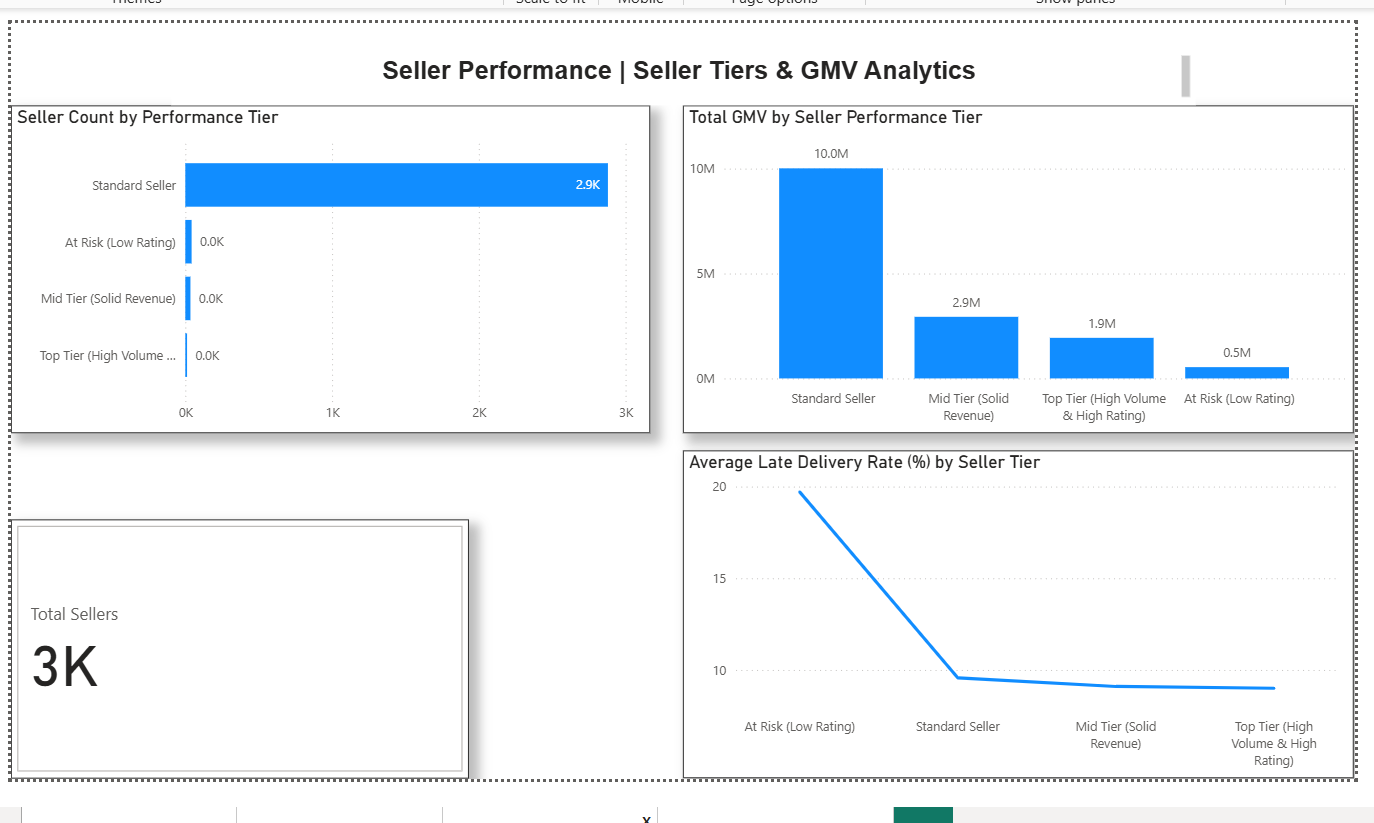

This screenshot's page, from the dashboard's own definition file:
{"tool":"powerbi","page":{"name":"Seller Performance","canvas":[1280,720],"ordinal":2},"visuals":[{"type":"cardVisual","fields":{"Data":["Sum(19_vw_seller_performance_scorecard.total_sellers)"]},"box":[0,472.4,436.1,246.8],"z":0},{"type":"clusteredBarChart","title":"Seller Count by Performance Tier","fields":{"Category":["19_vw_seller_performance_scorecard.seller_performance_tier"],"Y":["Sum(19_vw_seller_performance_scorecard.total_sellers)"]},"box":[0,78.7,608.7,311.9],"z":1000},{"type":"clusteredColumnChart","title":"Total GMV by Seller Performance Tier","fields":{"Category":["19_vw_seller_performance_scorecard.seller_performance_tier"],"Y":["Sum(19_vw_seller_performance_scorecard.total_gmv)"]},"box":[640.5,78.7,639,311.9],"z":2000},{"type":"lineChart","title":"Average Late Delivery Rate (%) by Seller Tier","fields":{"Y":["Avg(19_vw_seller_performance_scorecard.avg_late_rate_pct)"],"Category":["19_vw_seller_performance_scorecard.seller_performance_tier"]},"box":[640.5,407.3,639,311.9],"z":3000},{"type":"textbox","box":[152.9,25.7,975.1,53],"z":3002}]}

Visuals, with their boxes in screenshot pixels (x1, y1, x2, y2):
cardVisual - Sum(19_vw_seller_performance_scorecard.total_sellers): [left=0, top=518, right=462, bottom=779]
"Seller Count by Performance Tier" clusteredBarChart: [left=0, top=101, right=644, bottom=431]
"Total GMV by Seller Performance Tier" clusteredColumnChart: [left=678, top=101, right=1354, bottom=431]
"Average Late Delivery Rate (%) by Seller Tier" lineChart: [left=678, top=449, right=1354, bottom=779]
textbox: [left=162, top=45, right=1194, bottom=101]
